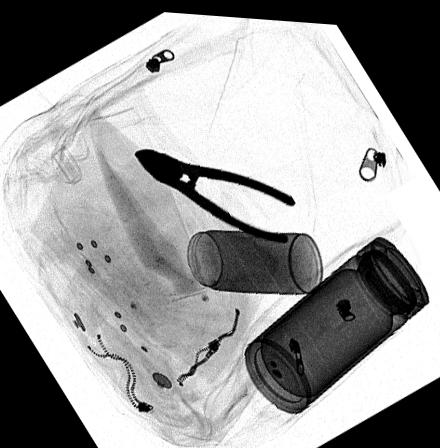Pliers: (134, 146, 294, 238)
